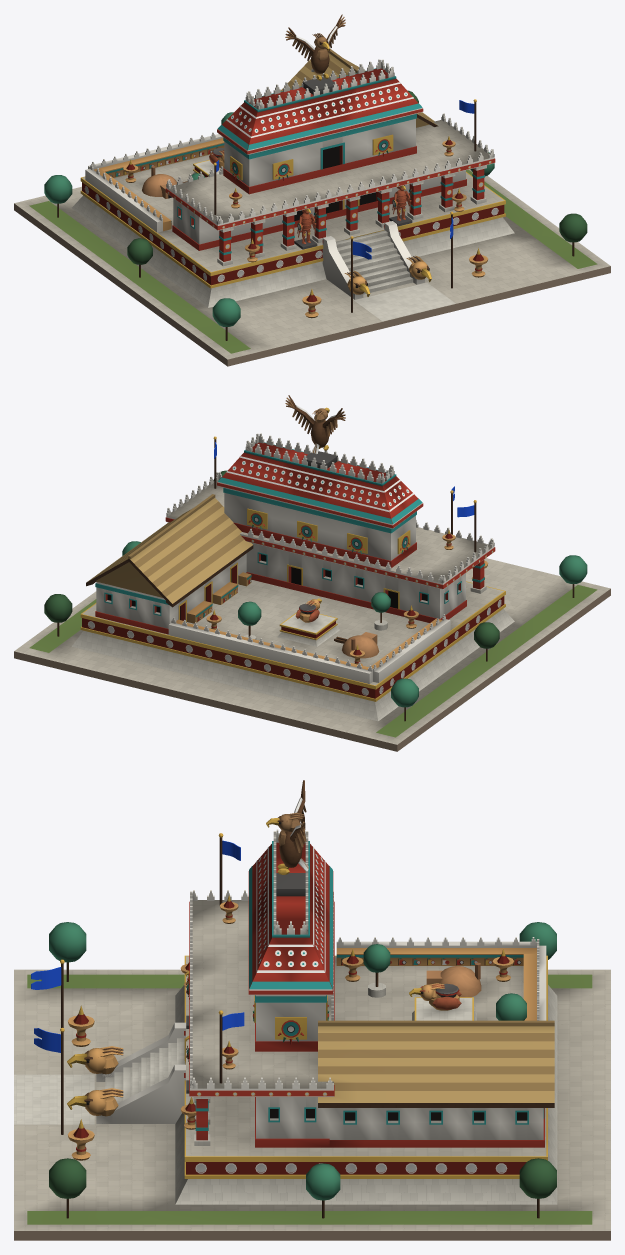
File: lm_kartalevi.glb
The picture shows the model from 3 angles, top to bottom: view 1: azimuth 30°, elevation 25°; view 2: azimuth 150°, elevation 25°; view 3: azimuth 270°, elevation 25°; orthographic projection. The views are drawn at different scales.
Parts seen in each view (by area): view 1: lm_kartalevi; view 2: lm_kartalevi; view 3: lm_kartalevi.
Boxes of the visible parts, box(x1,y1,x2,y2) form: lm_kartalevi: box(14, 14, 610, 366); lm_kartalevi: box(14, 395, 610, 751); lm_kartalevi: box(14, 780, 610, 1240).
Size of the model in its own units: 2.3 by 1.28 by 2.22.
Materials: 1 (1 with a texture image).
